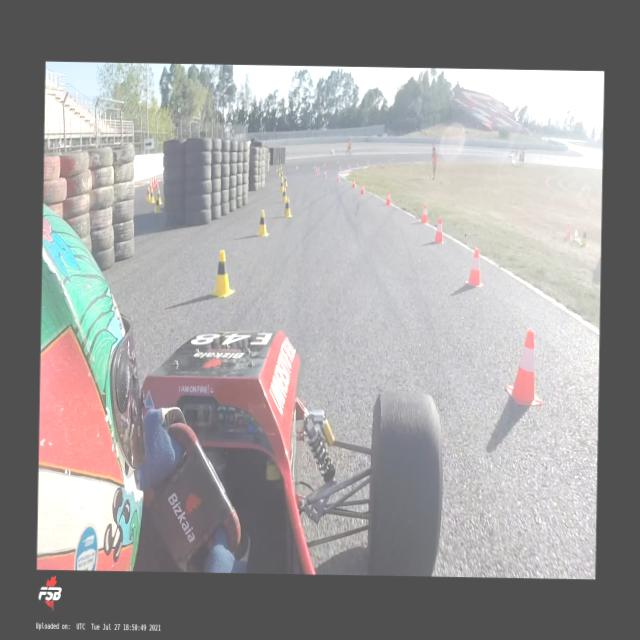orange_cone: (506, 328, 542, 406), (466, 247, 483, 287), (434, 218, 444, 244), (422, 204, 428, 224), (564, 222, 570, 240), (385, 190, 390, 206), (360, 182, 364, 195), (152, 174, 156, 187), (352, 178, 356, 188), (151, 175, 154, 187), (155, 176, 158, 187), (149, 180, 152, 190), (336, 173, 339, 182), (314, 170, 318, 174), (324, 172, 326, 178)
yellow_cone: (210, 250, 235, 298), (256, 210, 268, 236), (282, 197, 292, 218), (579, 226, 587, 246), (153, 197, 161, 213), (154, 189, 162, 204), (148, 187, 155, 202), (280, 187, 286, 203), (145, 186, 150, 202), (279, 180, 284, 192), (284, 176, 288, 187), (280, 171, 283, 181), (277, 168, 280, 176)
